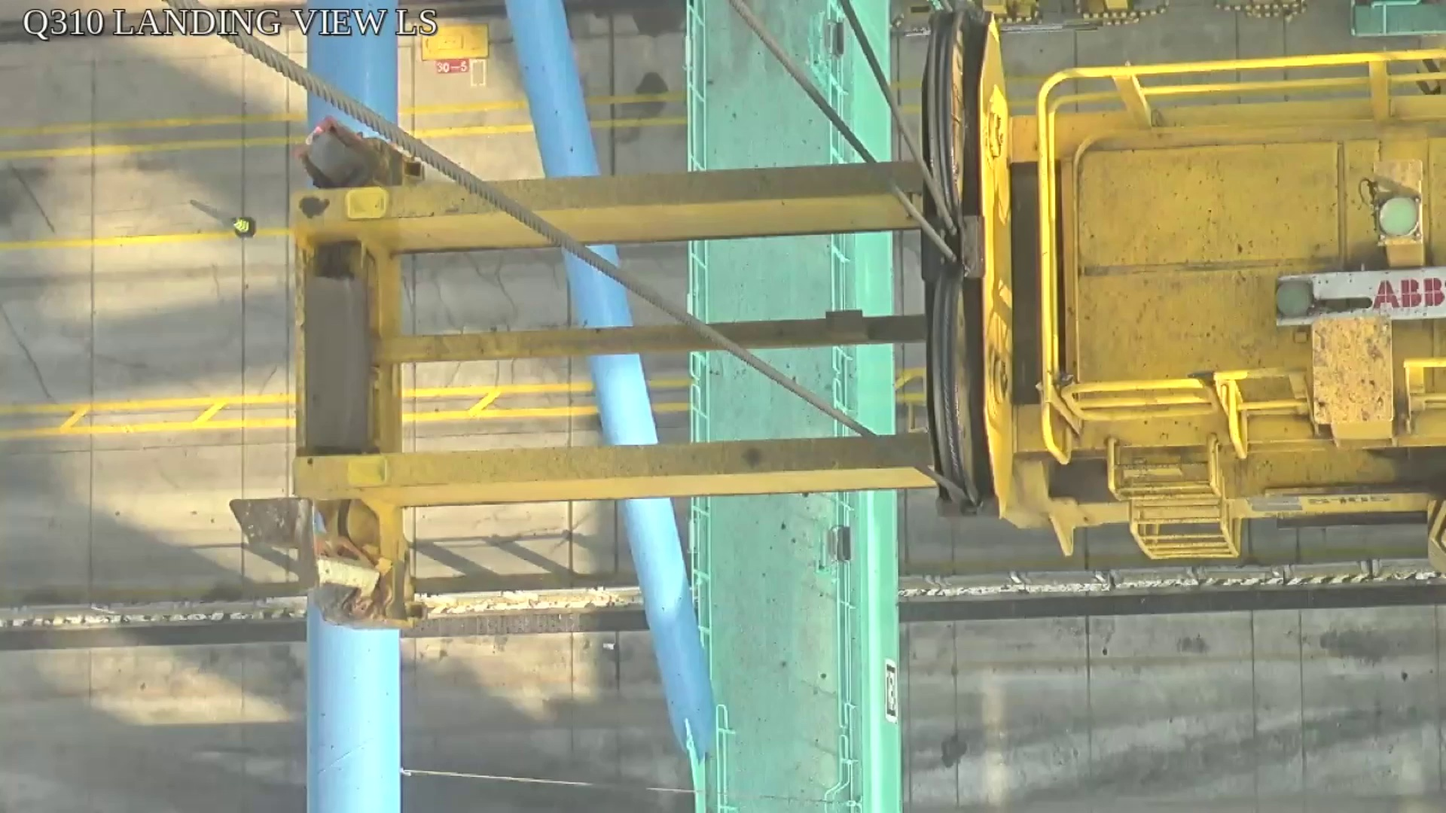aa: (922, 7, 1018, 521)
